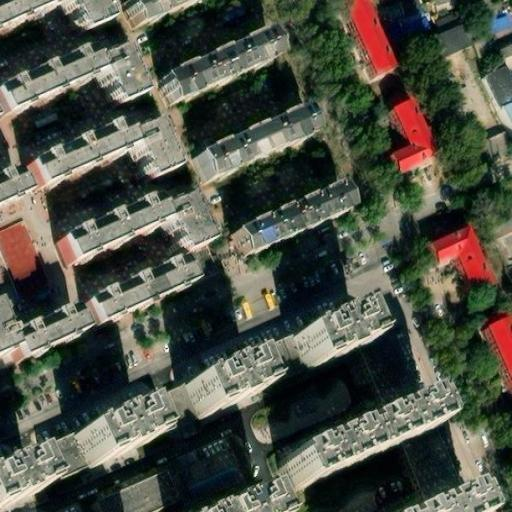building: (128, 337, 297, 435), (271, 404, 426, 498), (15, 126, 168, 202), (50, 199, 202, 273), (225, 184, 343, 269), (191, 106, 308, 187), (157, 32, 276, 106), (402, 31, 480, 134), (77, 258, 182, 333), (333, 0, 394, 92), (283, 306, 362, 372), (0, 306, 78, 370), (176, 358, 254, 419), (424, 237, 491, 308), (67, 405, 143, 465), (0, 0, 109, 41), (380, 101, 429, 178), (121, 0, 196, 32), (484, 328, 512, 408), (474, 56, 512, 114), (38, 432, 80, 475), (346, 309, 385, 339), (479, 206, 512, 239), (478, 130, 512, 162), (387, 17, 426, 37), (496, 106, 512, 147), (479, 14, 508, 36), (494, 47, 512, 72), (405, 30, 430, 46), (431, 0, 455, 11)
